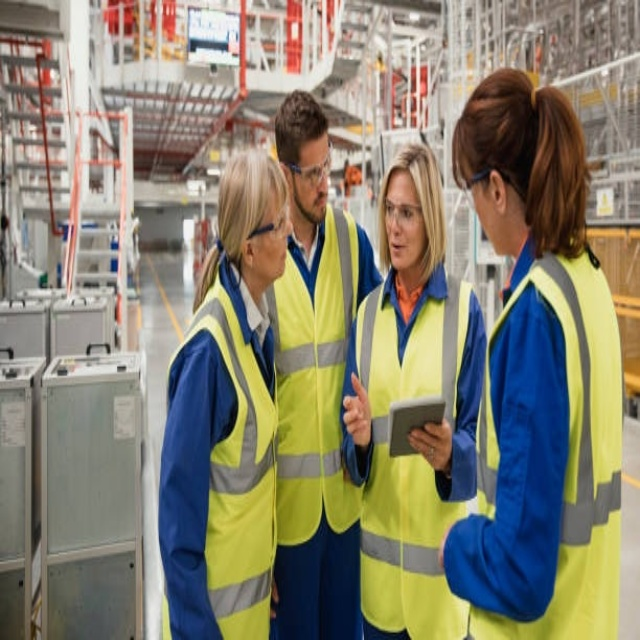Gafas: (285, 145, 333, 186), (246, 201, 291, 241), (466, 166, 519, 199), (383, 199, 423, 227)
Sin_guantes: (407, 409, 451, 472), (342, 369, 372, 442)
Sin_mascara: (269, 240, 289, 279), (308, 190, 334, 214), (389, 234, 408, 266)
